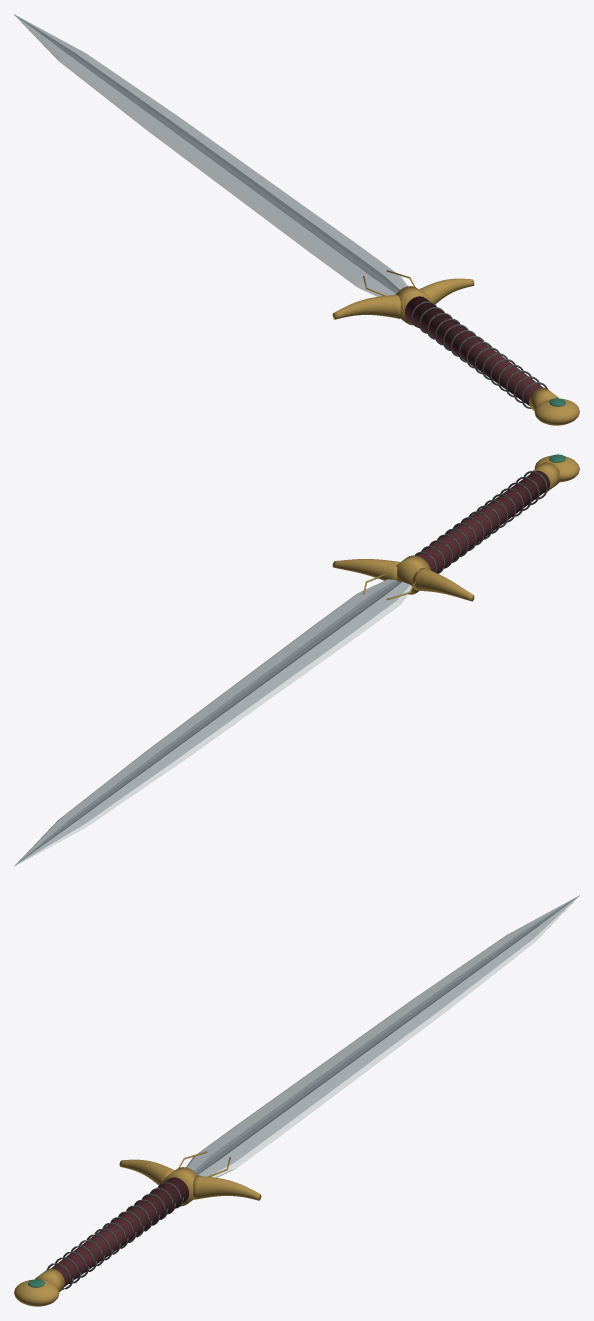
File: relic.glb
The picture shows the model from 3 angles, top to bottom: view 1: azimuth 30°, elevation 25°; view 2: azimuth 150°, elevation 25°; view 3: azimuth 330°, elevation 25°; orthographic projection.
Parts seen in each view (by area): view 1: Forged_relic; view 2: Forged_relic; view 3: Forged_relic.
Boxes of the visible parts, <box> form: Forged_relic: <box>14,14,579,425</box>; Forged_relic: <box>14,454,579,866</box>; Forged_relic: <box>14,895,579,1306</box>.
Bounding box in the file's own units: 0.2502 × 0.054 × 1.73.
